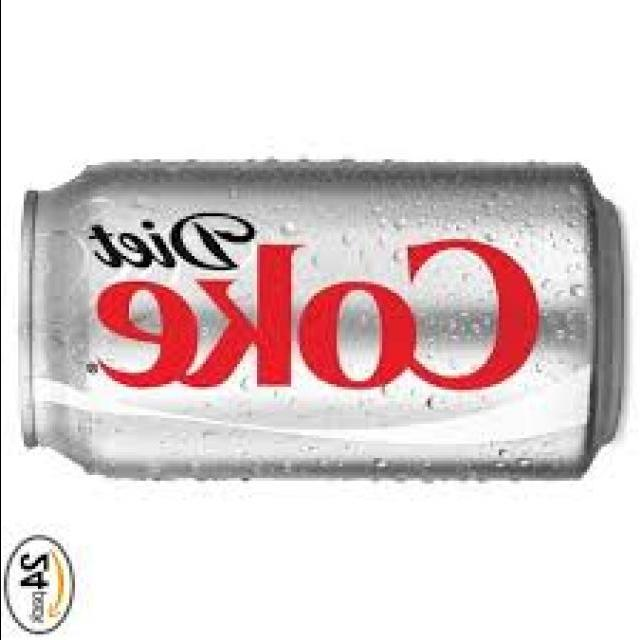can: (14, 156, 620, 481)
